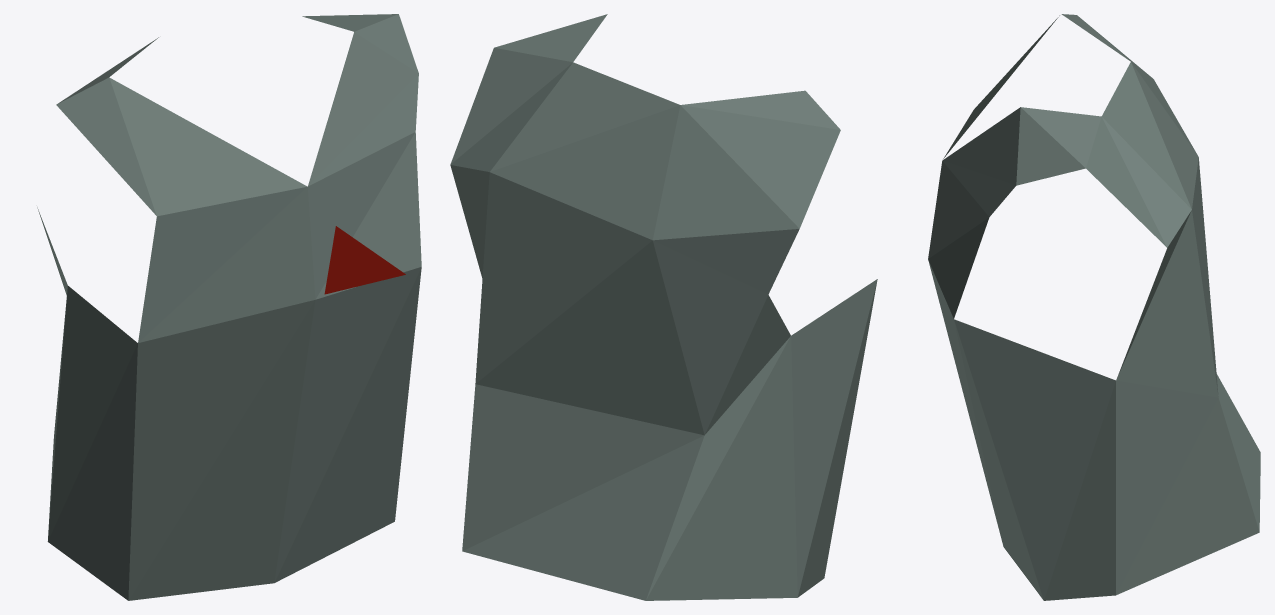
3 views of the same model, side by side, from view 1: azimuth 30°, elevation 25°; view 2: azimuth 150°, elevation 25°; view 3: azimuth 270°, elevation 25° (orthographic). The views are drawn at different scales.
Size of the model in its own units: 0.5223 by 0.7505 by 0.5028.
2 materials, 2 textured.
